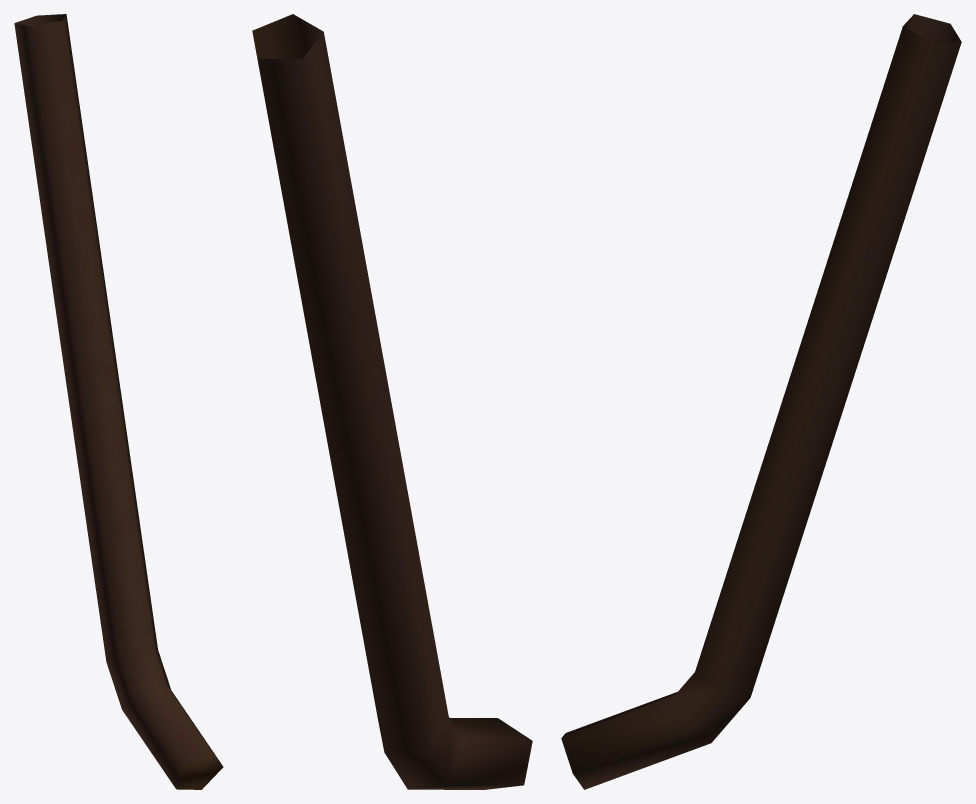
The model's file is sundries_03_8da0032d__ZombiesII_depot_diffuse_03_573b45f4_c1f257.obj.
The picture shows the model from 3 angles, left to right: view 1: azimuth 30°, elevation 25°; view 2: azimuth 150°, elevation 25°; view 3: azimuth 270°, elevation 25°; orthographic projection. The views are drawn at different scales.
Size of the model in its own units: 0.5427 by 7.83 by 3.72.
Materials: 1 (1 with a texture image).
